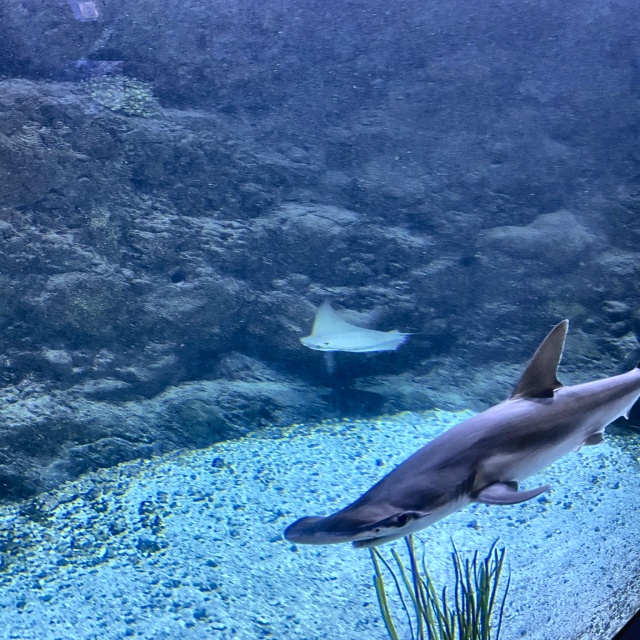shark: (287, 328, 639, 549)
stingray: (285, 296, 407, 367)
